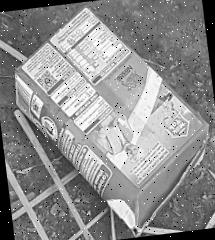paper: (3, 0, 215, 240)
